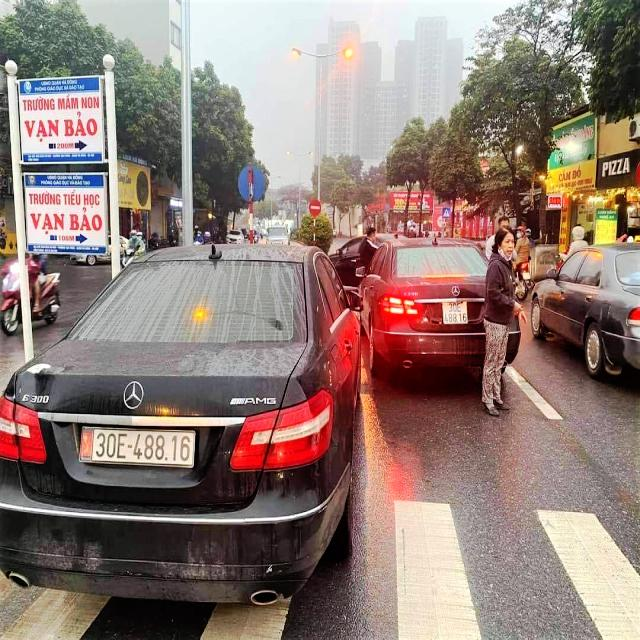license_plate: (80, 428, 196, 469), (443, 302, 469, 325)
